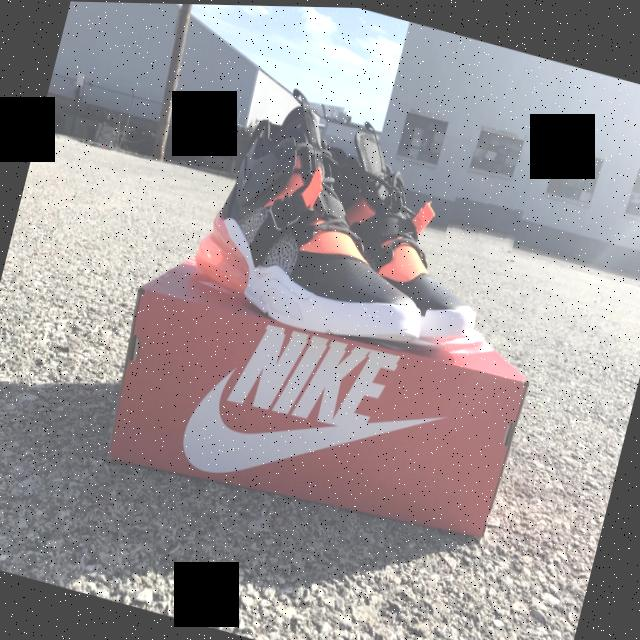shoe: (174, 76, 468, 368), (282, 105, 538, 363)
